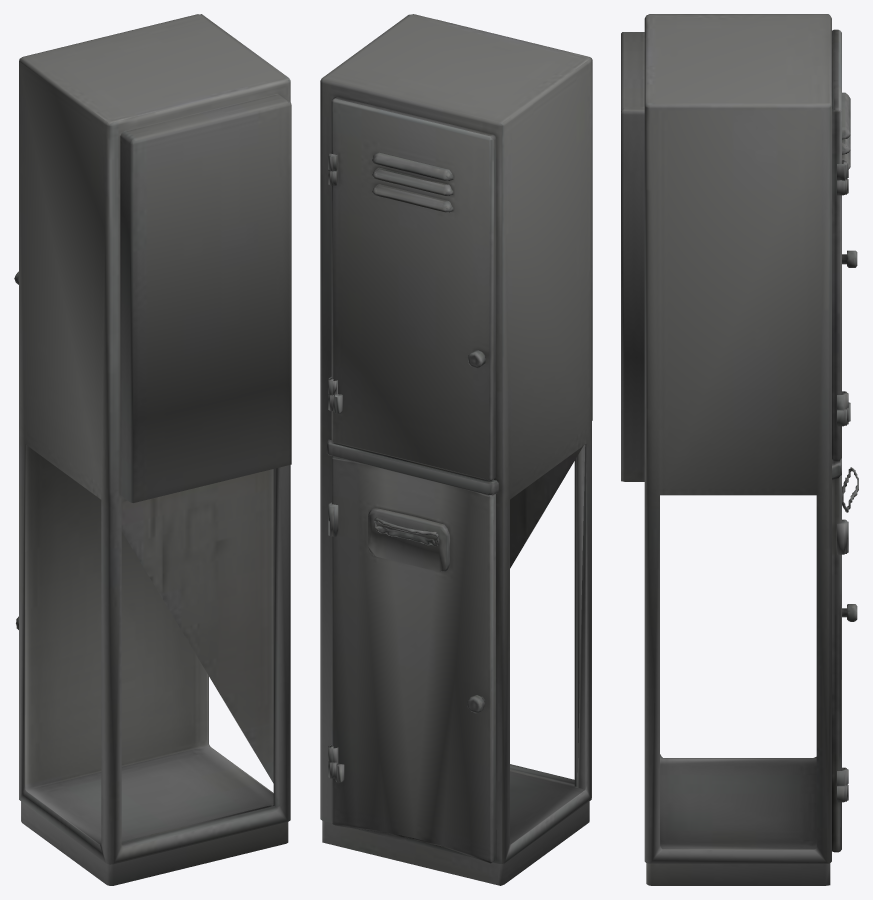
File: b3-locker.glb
3 views of the same model, side by side, from view 1: azimuth 30°, elevation 25°; view 2: azimuth 150°, elevation 25°; view 3: azimuth 270°, elevation 25° (orthographic). The views are drawn at different scales.
Visible parts, largest first — view 1: tripo_node_4bed5a29-9d2c-46ff-95e7-0bead33d4852; view 2: tripo_node_4bed5a29-9d2c-46ff-95e7-0bead33d4852; view 3: tripo_node_4bed5a29-9d2c-46ff-95e7-0bead33d4852.
Boxes of the visible parts, left/top/right/bottom form: tripo_node_4bed5a29-9d2c-46ff-95e7-0bead33d4852: left=14, top=14, right=291, bottom=885; tripo_node_4bed5a29-9d2c-46ff-95e7-0bead33d4852: left=320, top=14, right=592, bottom=885; tripo_node_4bed5a29-9d2c-46ff-95e7-0bead33d4852: left=621, top=14, right=858, bottom=885.
Size of the model in its own units: 0.4544 by 1.8 by 0.4967.
1 material, 1 textured.
